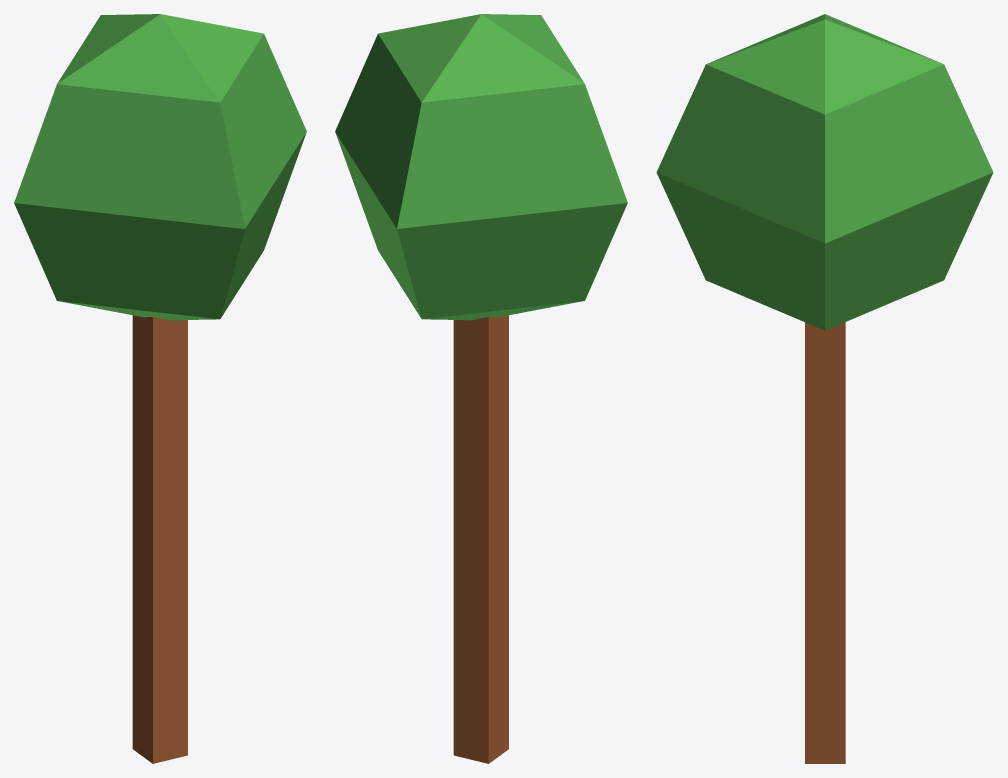
Rendered from tree 3.fbx.
The picture shows the model from 3 angles, left to right: view 1: azimuth 30°, elevation 25°; view 2: azimuth 150°, elevation 25°; view 3: azimuth 270°, elevation 25°; orthographic projection.
Visible parts, largest first — view 1: Cube.004; view 2: Cube.004; view 3: Cube.004.
Part boxes in pixels (<box>): Cube.004: <box>14,14,306,763</box>; Cube.004: <box>335,14,627,763</box>; Cube.004: <box>656,14,993,763</box>.
Size of the model in its own units: 200 by 482 by 200.
